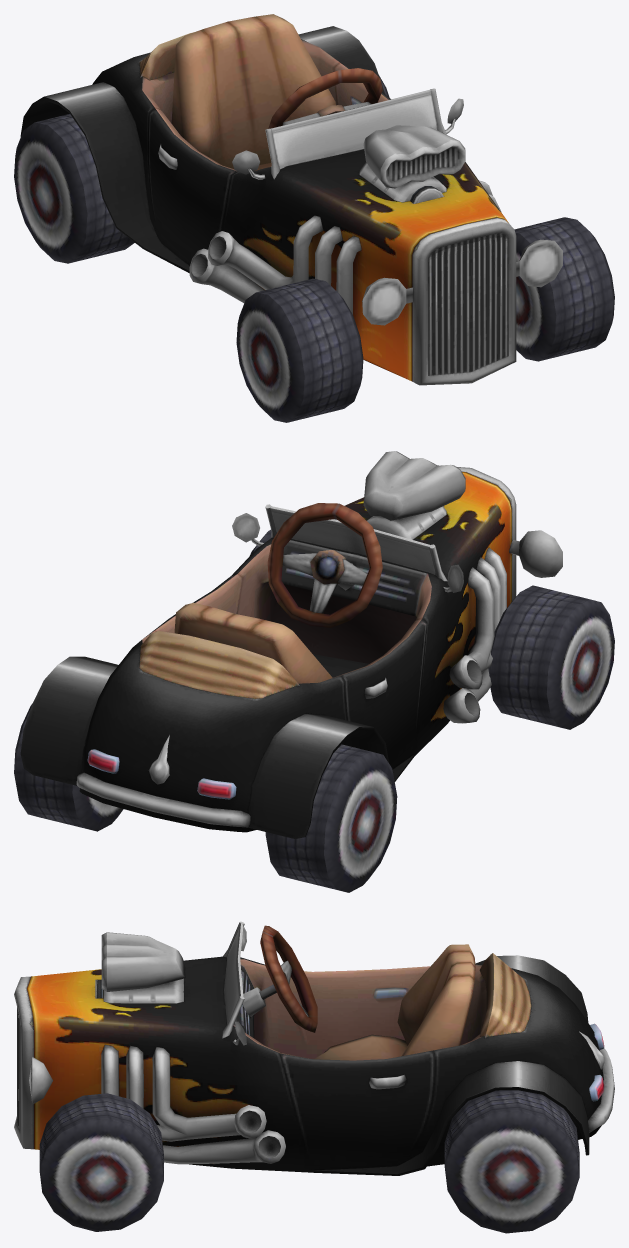
File: boom_karts_hot_rod.glb
3 views of the same model, one above another, from view 1: azimuth 30°, elevation 25°; view 2: azimuth 150°, elevation 25°; view 3: azimuth 270°, elevation 25° (orthographic). The views are drawn at different scales.
Visible parts, largest first — view 1: kartModel, tireTest (2), tireTest (1), tireTest (3); view 2: kartModel, tireTest (2), tireTest (1), tireTest; view 3: kartModel, tireTest, tireTest (3).
Part boxes in pixels (box(x1,y1,x2,y2)): kartModel: box(20, 14, 562, 385); tireTest (2): box(236, 278, 363, 422); tireTest (1): box(14, 114, 134, 263); tireTest (3): box(514, 217, 614, 361); kartModel: box(20, 451, 562, 838); tireTest (2): box(488, 585, 614, 729); tireTest (1): box(265, 744, 397, 892); tireTest: box(14, 703, 123, 831); kartModel: box(14, 921, 614, 1175); tireTest: box(444, 1090, 579, 1233); tireTest (3): box(39, 1093, 163, 1231).
Size of the model in its own units: 0.0153 by 0.0113 by 0.0266.
2 materials, 2 textured.
